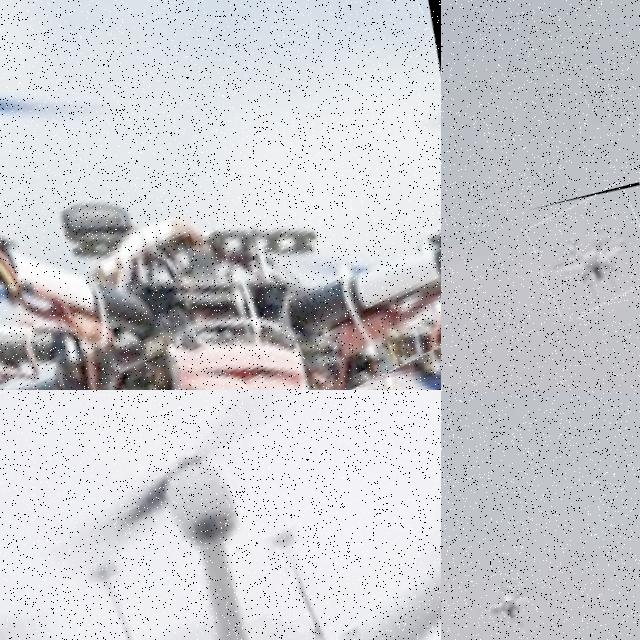drone: (0, 0, 441, 390), (0, 390, 441, 640), (525, 182, 640, 319)
